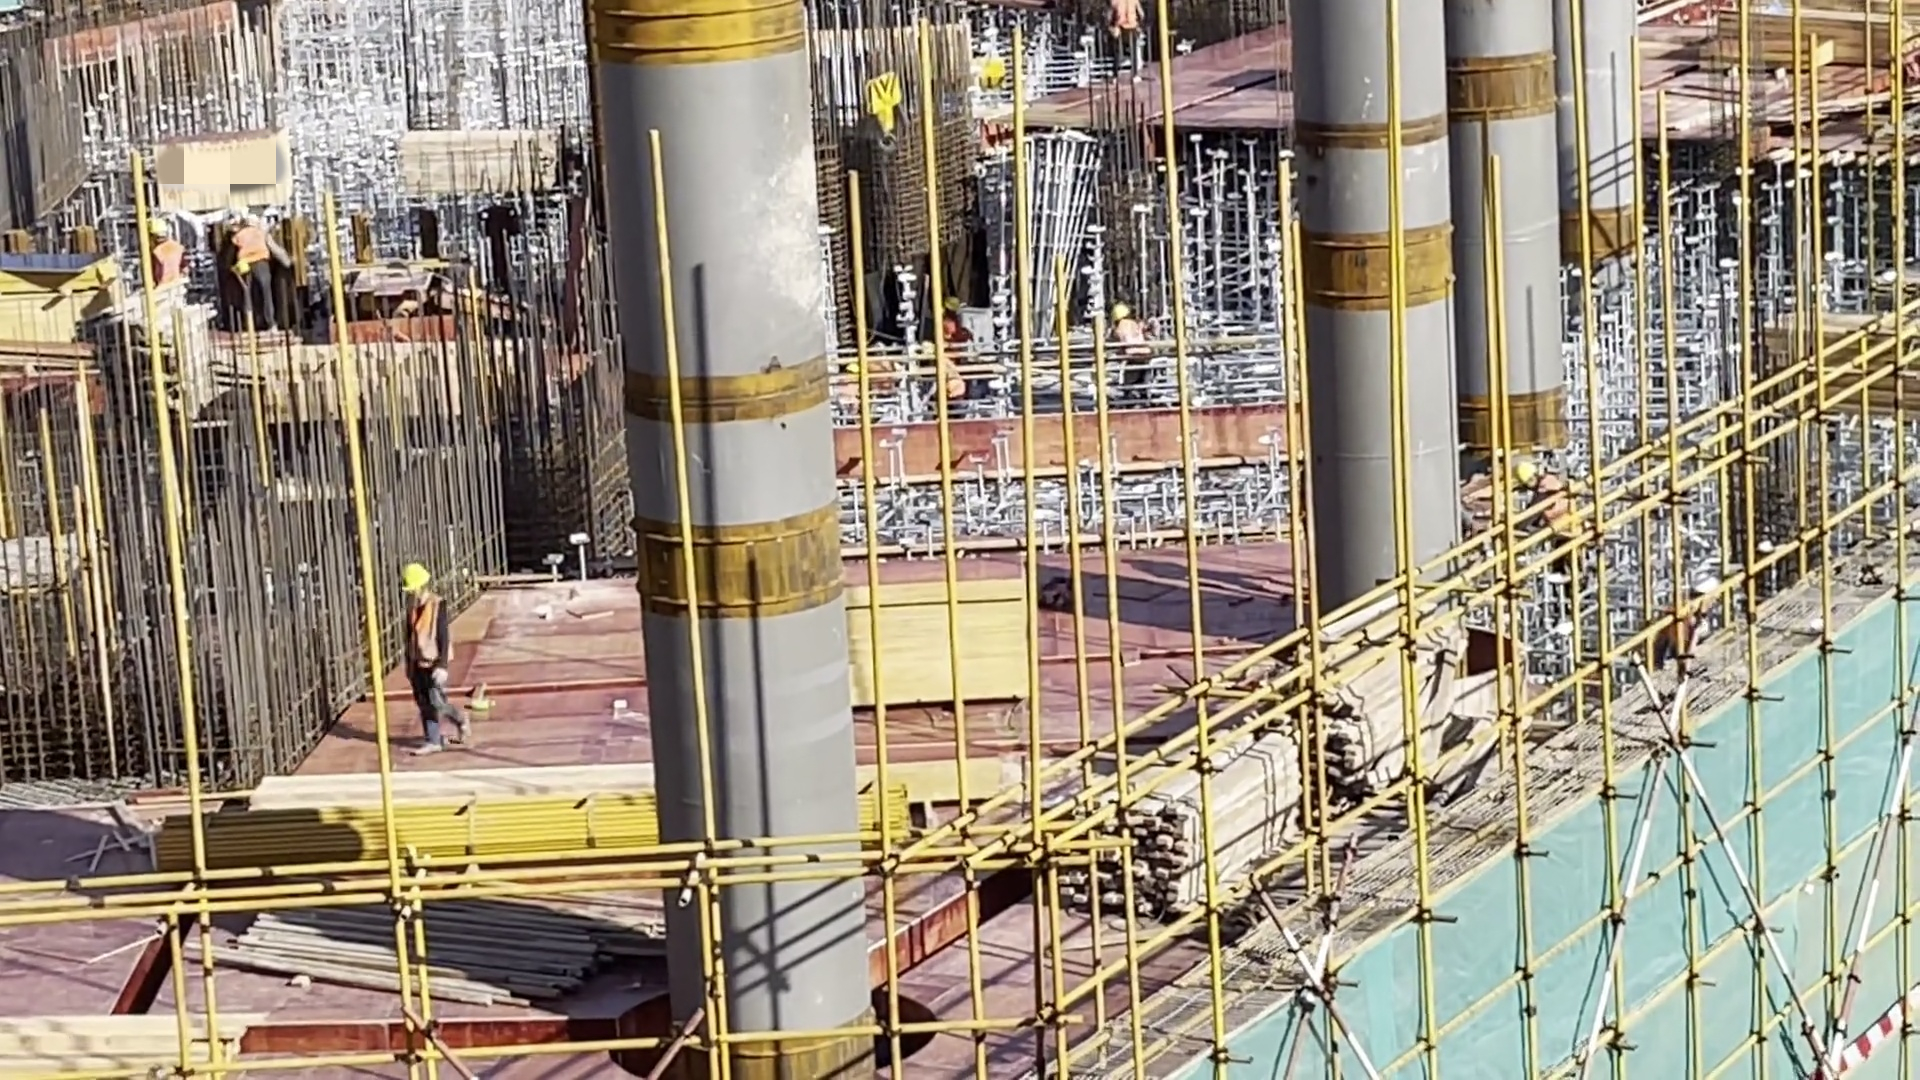helmet: (396, 561, 429, 601), (142, 212, 168, 243)
hook: (858, 70, 907, 146)
person: (402, 565, 471, 755), (1512, 461, 1582, 574), (1107, 299, 1157, 410), (234, 215, 280, 330), (142, 220, 188, 290), (923, 336, 968, 408), (1110, 1, 1143, 84)
vest: (404, 600, 455, 700), (236, 226, 271, 278), (147, 245, 186, 283), (1115, 324, 1150, 365), (1114, 1, 1139, 37)
wood: (1040, 689, 1338, 950), (218, 870, 658, 1039), (1261, 576, 1523, 785)
